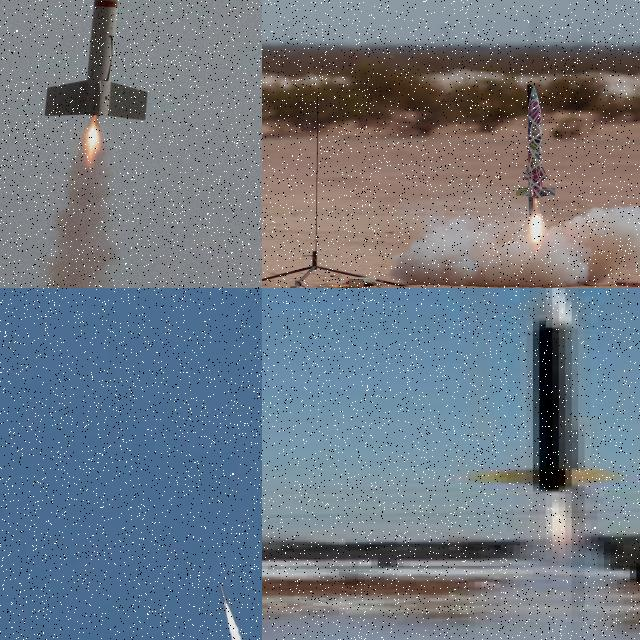Rocket: (471, 288, 626, 493), (43, 0, 150, 123), (515, 84, 556, 200), (220, 584, 226, 604)
